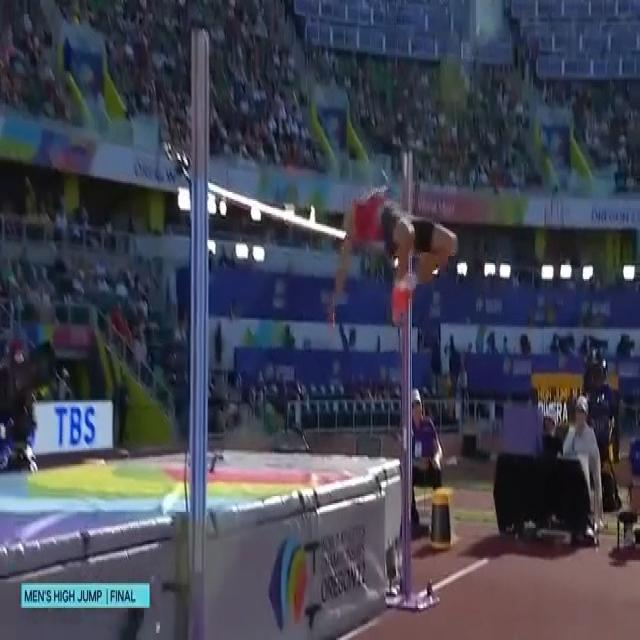jump: (327, 185, 458, 326)
